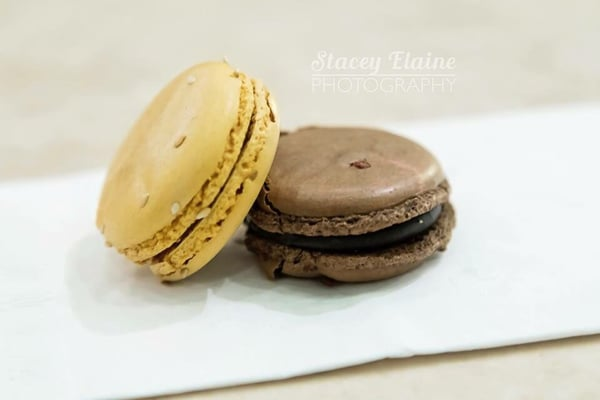pasta: (94, 57, 281, 284)
soup: (243, 124, 457, 282)
